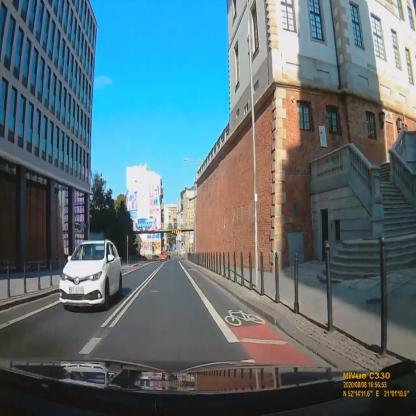cars: (59, 240, 124, 310), (160, 251, 167, 261)
